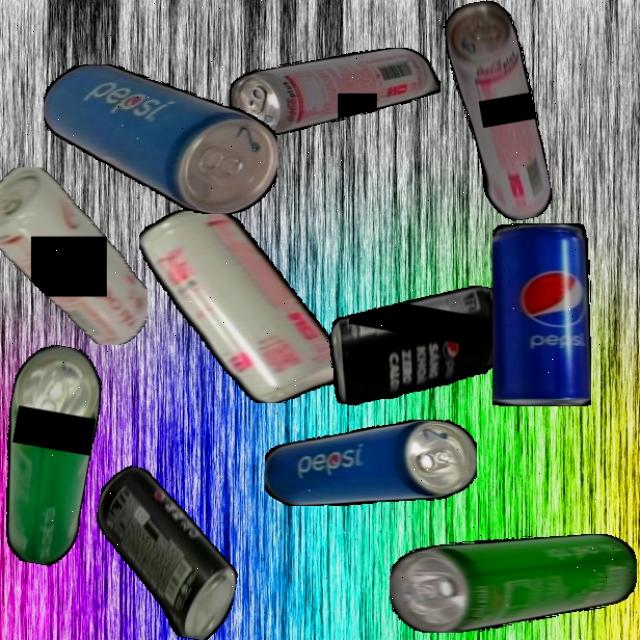debris: (139, 205, 349, 403), (42, 64, 278, 214), (320, 263, 508, 428), (79, 462, 252, 640), (0, 167, 148, 345), (440, 0, 554, 226), (0, 340, 109, 569), (389, 533, 637, 633), (228, 47, 441, 135), (264, 420, 477, 506), (492, 224, 591, 406)
